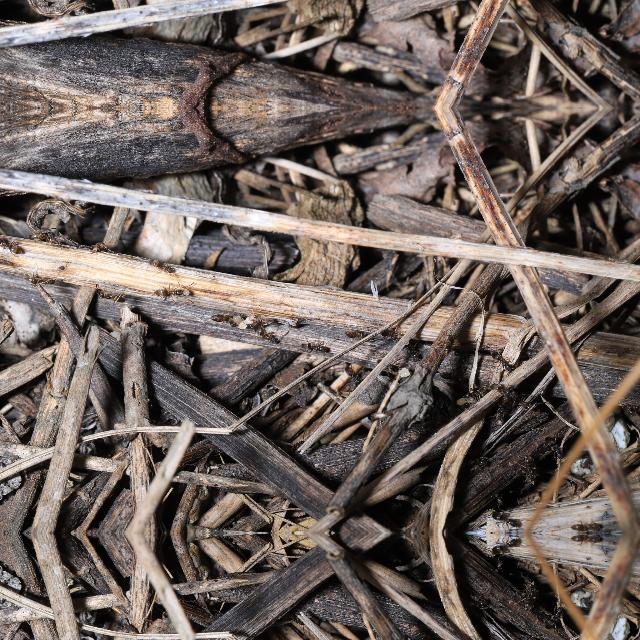Tapinoma: (514, 450, 536, 488), (514, 578, 536, 614), (487, 349, 517, 371), (542, 608, 564, 638), (542, 428, 564, 457), (27, 226, 57, 247), (503, 384, 527, 410), (488, 512, 522, 530), (340, 326, 378, 342), (488, 536, 522, 552), (570, 532, 602, 548), (342, 362, 362, 386), (150, 259, 180, 275), (299, 340, 333, 354), (94, 289, 128, 303), (1, 236, 27, 254), (570, 518, 602, 532), (438, 371, 466, 385), (157, 286, 189, 298), (466, 596, 490, 612), (442, 336, 461, 356), (381, 328, 402, 344), (466, 454, 490, 468), (406, 344, 424, 360), (490, 404, 506, 422), (29, 276, 56, 286), (262, 331, 282, 344), (244, 318, 266, 329), (212, 316, 236, 326), (289, 317, 309, 328)
